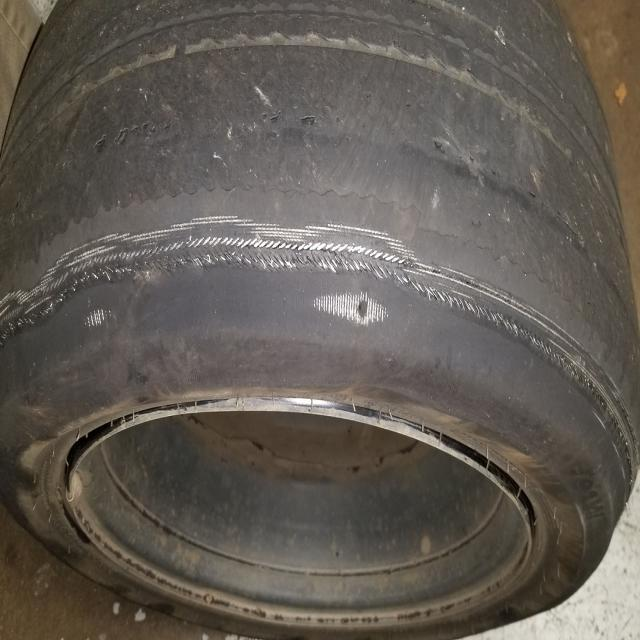Flat spots: (45, 9, 577, 236)
